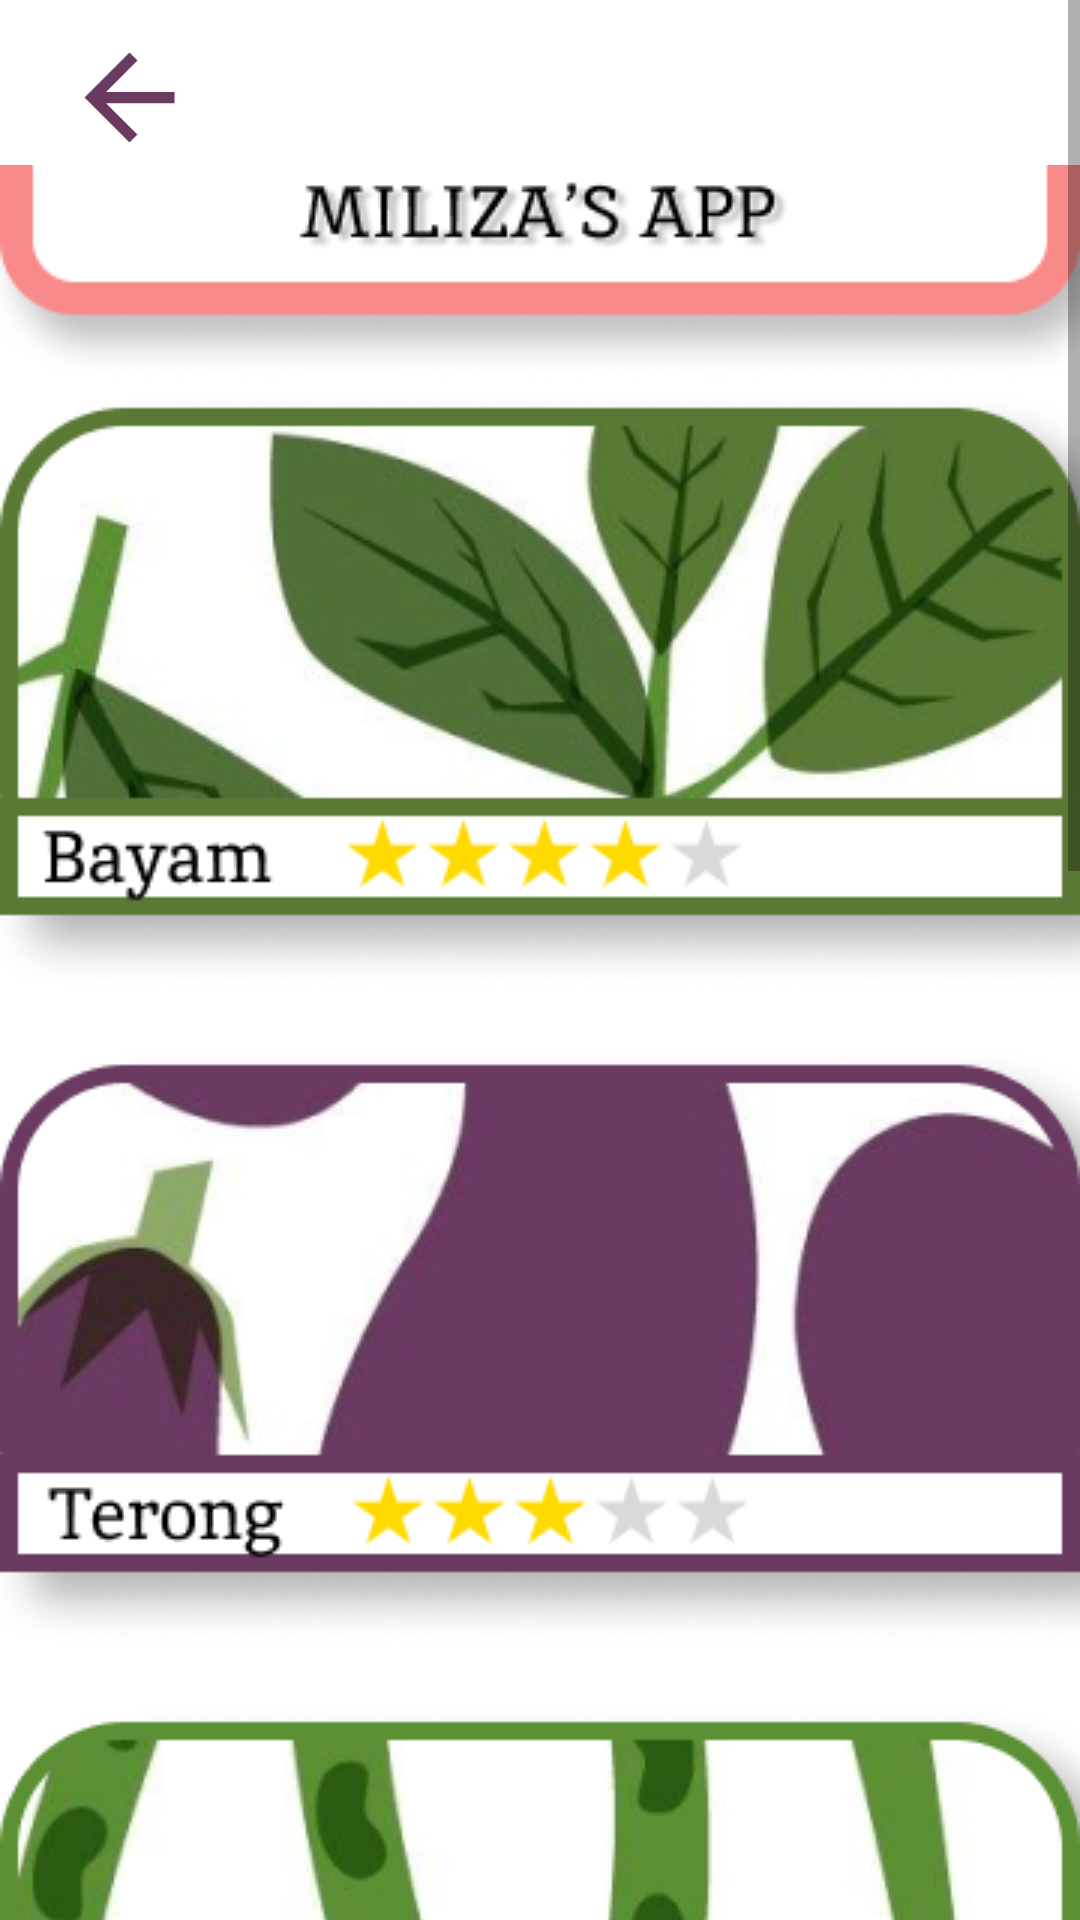

Named icons in this screenshot (1080w x 1920h) and their centers, (x,y):
arrow back: (129,97)
